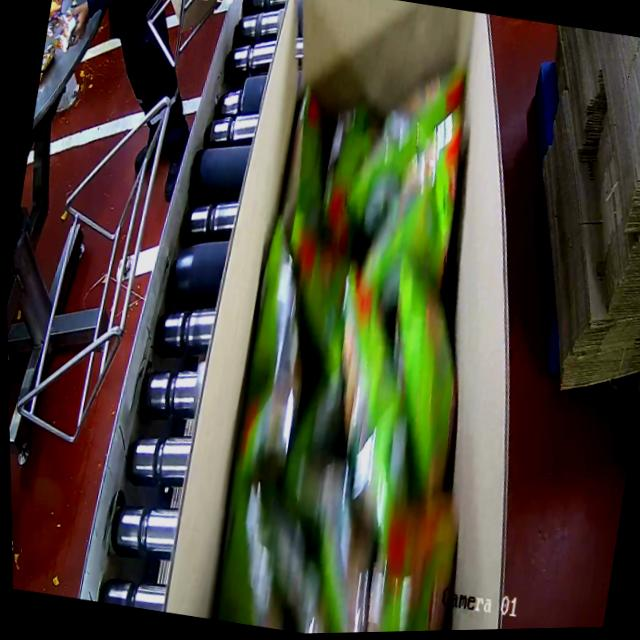YOGURT_HERB: (197, 43, 547, 636)
